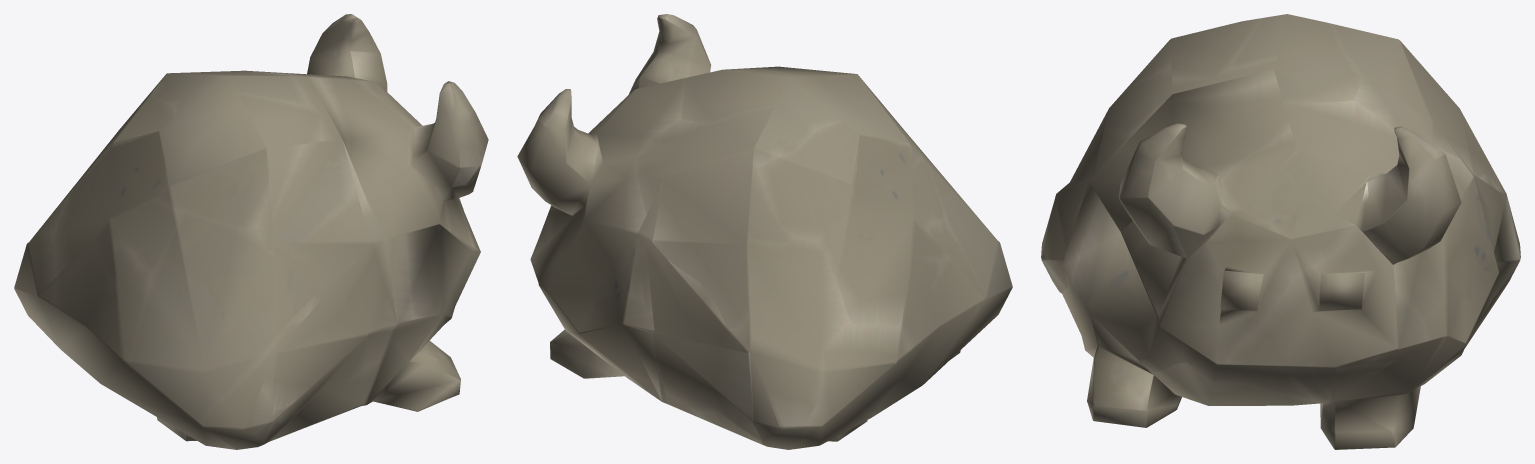
File: charger.fbx
3 renders of one model, left to right at view 1: azimuth 30°, elevation 25°; view 2: azimuth 150°, elevation 25°; view 3: azimuth 270°, elevation 25°, orthographic. The views are drawn at different scales.
Visible parts, largest first — view 1: tripo_node_271c31a3-3ce0-4649-8d67-1c9e93a6c848; view 2: tripo_node_271c31a3-3ce0-4649-8d67-1c9e93a6c848; view 3: tripo_node_271c31a3-3ce0-4649-8d67-1c9e93a6c848.
Part boxes in pixels (left/top/right/bottom): tripo_node_271c31a3-3ce0-4649-8d67-1c9e93a6c848: left=14, top=14, right=488, bottom=449; tripo_node_271c31a3-3ce0-4649-8d67-1c9e93a6c848: left=517, top=14, right=1012, bottom=449; tripo_node_271c31a3-3ce0-4649-8d67-1c9e93a6c848: left=1041, top=14, right=1520, bottom=449.
Size of the model in its own units: 0.998 by 0.7534 by 0.9804.
